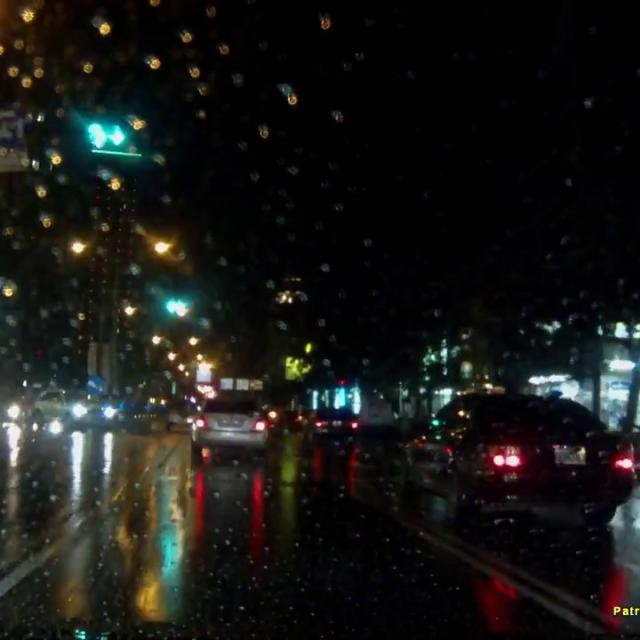Car: (396, 391, 637, 524), (189, 396, 269, 459), (31, 385, 112, 433), (299, 406, 360, 441), (162, 401, 192, 431)
